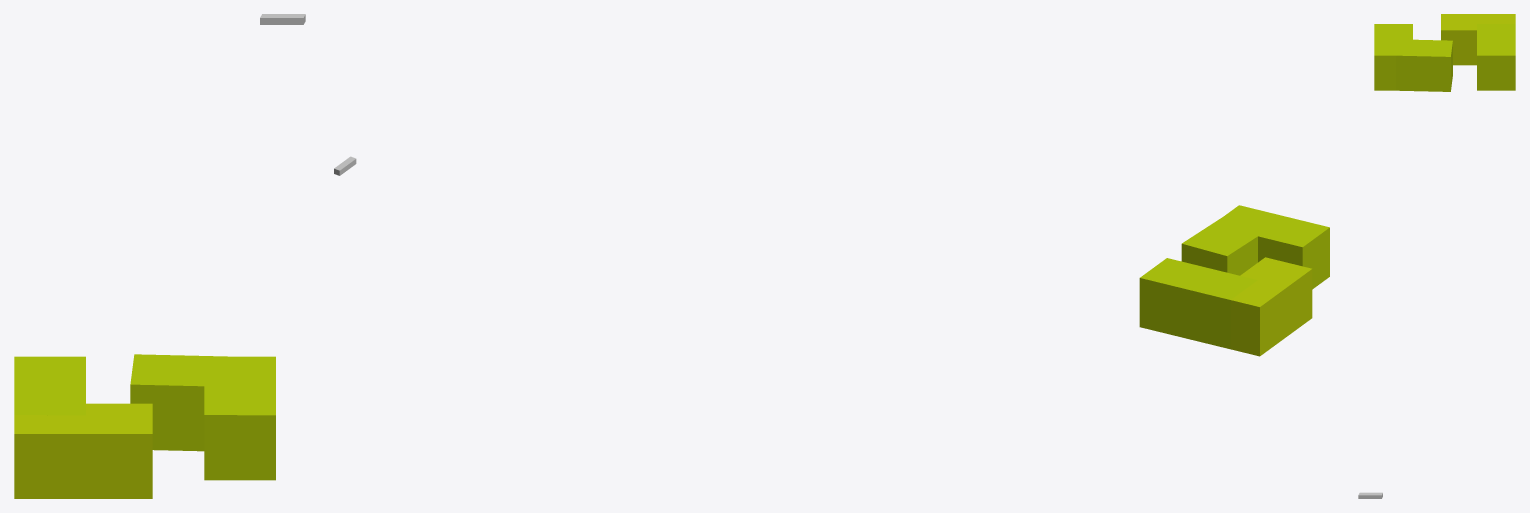
The model's file is Rune7NoStoneMapped.fbx.
3 renders of one model, left to right at view 1: azimuth 90°, elevation 25°; view 2: azimuth 150°, elevation 25°; view 3: azimuth 270°, elevation 25°, orthographic. The views are drawn at different scales.
Parts seen in each view (by area): view 1: Cube.002, Cube.003, Cube.004, Cube.001, Cube; view 2: Cube.001, Cube.002, Cube.003, Cube.004; view 3: Cube.004, Cube.001, Cube.002, Cube.003.
Boxes of the visible parts, x1,y1,x2,y2 form: Cube.002: (14,403,152,498); Cube.003: (204,356,275,480); Cube.004: (130,354,270,451); Cube.001: (14,356,85,415); Cube: (260,14,305,24); Cube.001: (1139,258,1257,349); Cube.002: (1230,257,1312,356); Cube.003: (1212,205,1329,289); Cube.004: (1181,212,1284,275); Cube.004: (1377,39,1452,91); Cube.001: (1477,24,1515,90); Cube.002: (1441,14,1515,65); Cube.003: (1374,24,1412,90).
Bounding box in the file's own units: 679 × 117 × 128.
